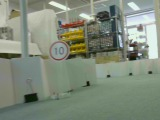speed_10: (48, 40, 70, 62)
